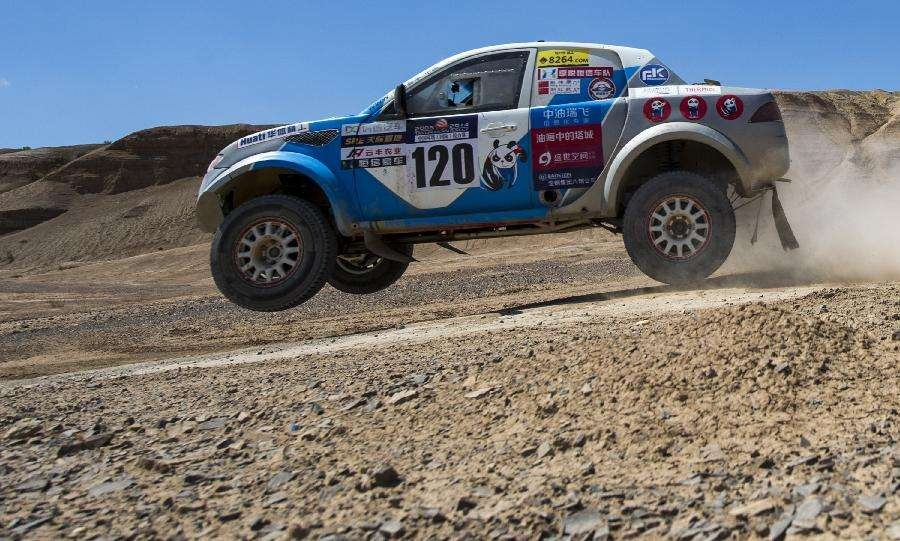racing car: (188, 23, 808, 308)
